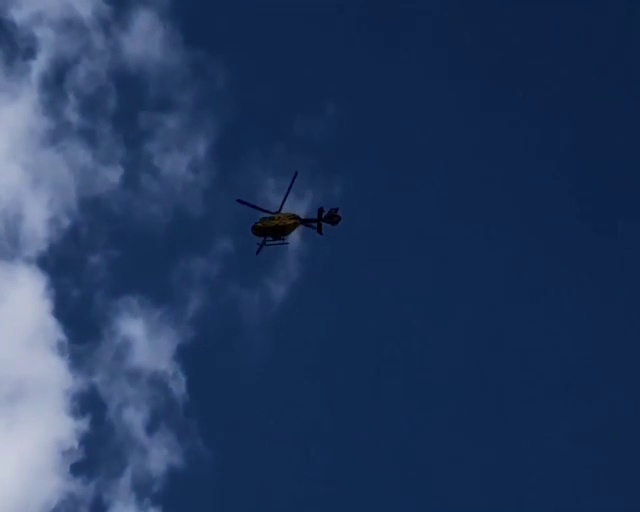HELICOPTER: (234, 169, 343, 255)
